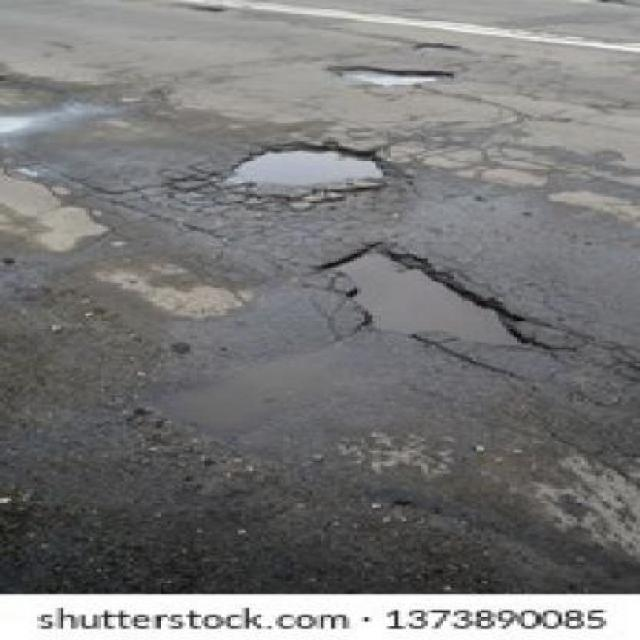Pothole: (324, 244, 528, 350), (230, 148, 387, 194), (334, 66, 458, 89), (413, 43, 458, 52)
